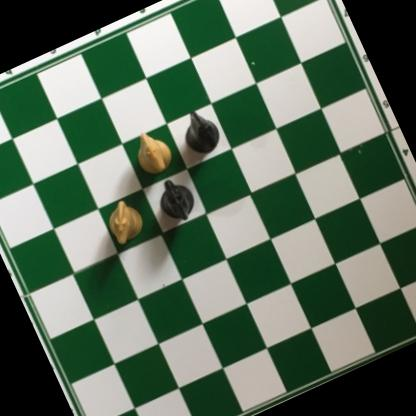black-knight: (175, 103, 227, 161), (151, 172, 203, 229)
white-knight: (125, 124, 177, 181), (99, 194, 149, 249)
